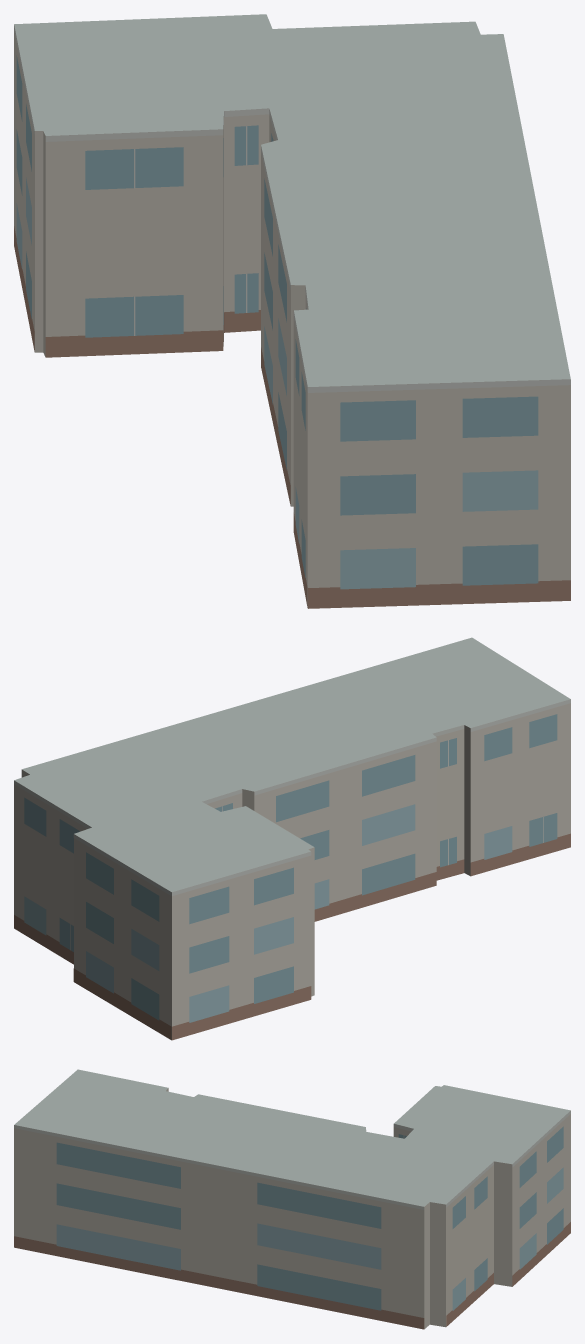
Rendered from survey-upis-33015939.glb.
The picture shows the model from 3 angles, top to bottom: view 1: azimuth 30°, elevation 25°; view 2: azimuth 150°, elevation 25°; view 3: azimuth 270°, elevation 25°; orthographic projection. The views are drawn at different scales.
Visible parts, largest first — view 1: survey-upis-33015939.tmp; view 2: survey-upis-33015939.tmp; view 3: survey-upis-33015939.tmp.
Part boxes in pixels (x1,y1,x2,y2): survey-upis-33015939.tmp: (14, 14, 570, 608); survey-upis-33015939.tmp: (14, 637, 570, 1040); survey-upis-33015939.tmp: (14, 1069, 570, 1329).
Size of the model in its own units: 21.99 by 9.15 by 37.65.
